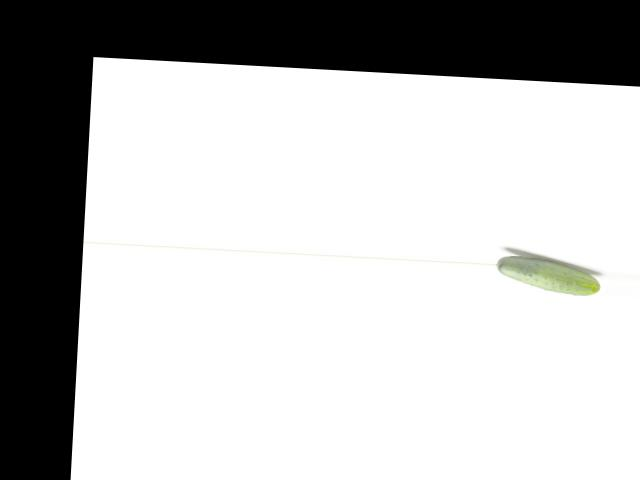cucumber: (493, 253, 601, 296)
